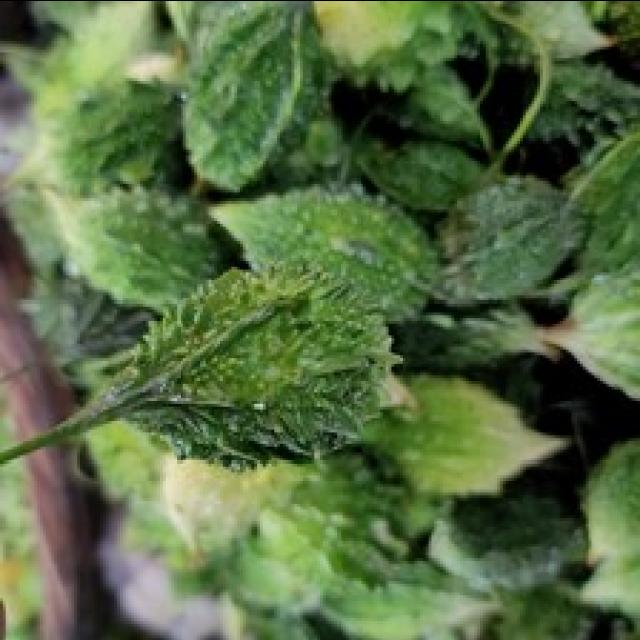organik: (9, 245, 406, 528)
